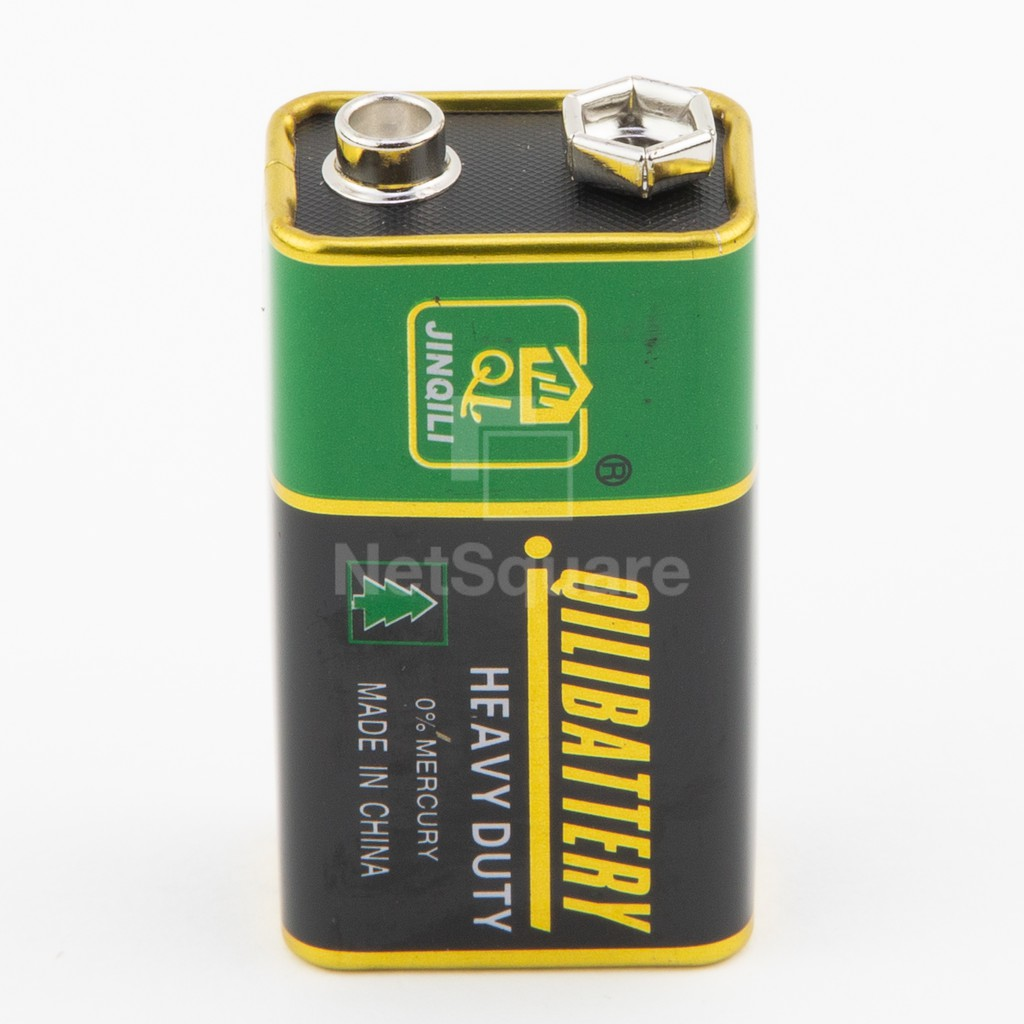Battery: (251, 57, 776, 985)
